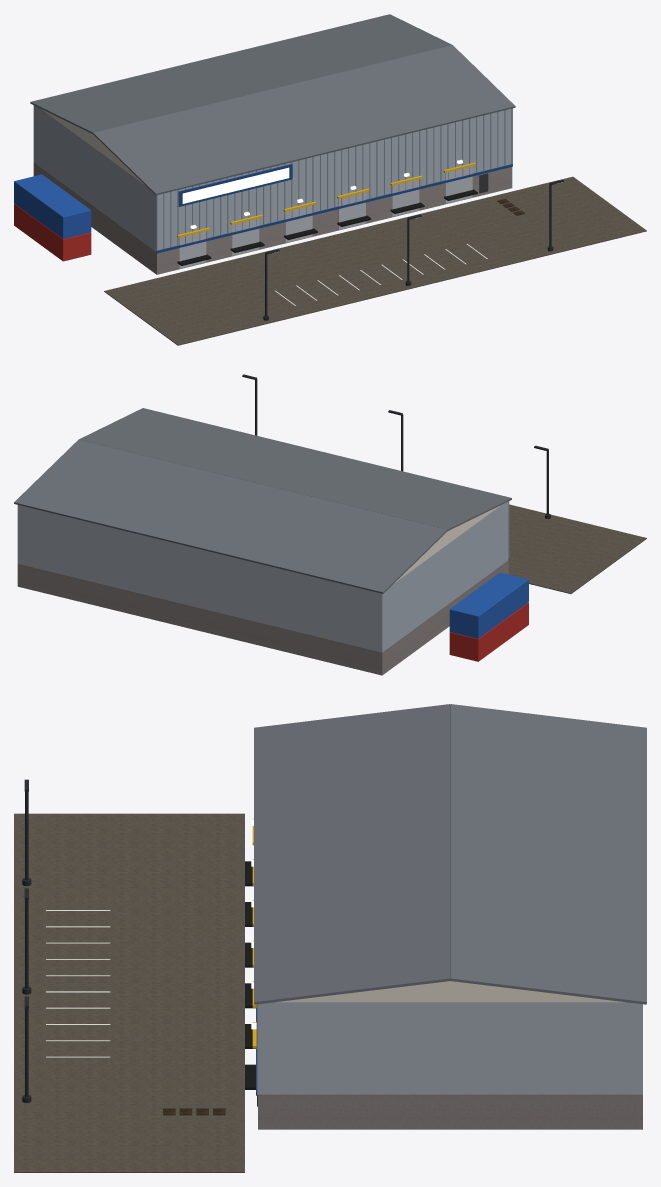
The model's file is OT_Warehouse_A.glb.
The picture shows the model from 3 angles, top to bottom: view 1: azimuth 30°, elevation 25°; view 2: azimuth 150°, elevation 25°; view 3: azimuth 270°, elevation 25°; orthographic projection. The views are drawn at different scales.
Visible parts, largest first — view 1: OT_Warehouse_A_RoofGrey__6f757c, OT_Warehouse_A_Pavement, OT_Warehouse_A_WhMetal__aab4bf, OT_Warehouse_A_Block, OT_Warehouse_A_Rib__8e98a3, OT_Warehouse_A_DockDoor__b8bcc2, OT_Warehouse_A_Container2__2a5fb0, OT_Warehouse_A_WhBlue__1f4e8c, OT_Warehouse_A_Container__b8322a, OT_Warehouse_A_SignWhiteGlow__f4f8ff, OT_Warehouse_A_Bumper__1a1a1a, OT_Warehouse_A_PoleDark__2a2c30 (+2 smaller); view 2: OT_Warehouse_A_RoofGrey__6f757c, OT_Warehouse_A_WhMetal__aab4bf, OT_Warehouse_A_Block, OT_Warehouse_A_Pavement, OT_Warehouse_A_Container2__2a5fb0, OT_Warehouse_A_Container__b8322a, OT_Warehouse_A_Gable__e8e2d4, OT_Warehouse_A_PoleDark__2a2c30; view 3: OT_Warehouse_A_RoofGrey__6f757c, OT_Warehouse_A_Pavement, OT_Warehouse_A_WhMetal__aab4bf, OT_Warehouse_A_Block, OT_Warehouse_A_Gable__e8e2d4, OT_Warehouse_A_PoleDark__2a2c30, OT_Warehouse_A_Bumper__1a1a1a, OT_Warehouse_A_PaintWhite__f0f0ee.
Part boxes in pixels (box(x1,y1,x2,y2)): OT_Warehouse_A_RoofGrey__6f757c: box(30, 14, 515, 195); OT_Warehouse_A_Pavement: box(104, 176, 646, 345); OT_Warehouse_A_WhMetal__aab4bf: box(33, 105, 511, 251); OT_Warehouse_A_Block: box(33, 163, 512, 274); OT_Warehouse_A_Rib__8e98a3: box(156, 108, 512, 252); OT_Warehouse_A_DockDoor__b8bcc2: box(179, 166, 472, 268); OT_Warehouse_A_Container2__2a5fb0: box(14, 174, 91, 239); OT_Warehouse_A_WhBlue__1f4e8c: box(156, 164, 512, 253); OT_Warehouse_A_Container__b8322a: box(14, 203, 91, 261); OT_Warehouse_A_SignWhiteGlow__f4f8ff: box(182, 167, 289, 203); OT_Warehouse_A_Bumper__1a1a1a: box(177, 189, 477, 265); OT_Warehouse_A_PoleDark__2a2c30: box(263, 179, 563, 320); OT_Warehouse_A_RoofGrey__6f757c: box(14, 408, 511, 593); OT_Warehouse_A_WhMetal__aab4bf: box(17, 501, 508, 652); OT_Warehouse_A_Block: box(17, 560, 508, 675); OT_Warehouse_A_Pavement: box(508, 504, 646, 593); OT_Warehouse_A_Container2__2a5fb0: box(449, 572, 528, 638); OT_Warehouse_A_Container__b8322a: box(449, 602, 528, 661); OT_Warehouse_A_Gable__e8e2d4: box(394, 505, 500, 583); OT_Warehouse_A_PoleDark__2a2c30: box(242, 374, 550, 518); OT_Warehouse_A_RoofGrey__6f757c: box(254, 704, 646, 1004); OT_Warehouse_A_Pavement: box(14, 813, 244, 1172); OT_Warehouse_A_WhMetal__aab4bf: box(258, 1002, 642, 1094); OT_Warehouse_A_Block: box(258, 1094, 642, 1129); OT_Warehouse_A_Gable__e8e2d4: box(276, 981, 624, 1002); OT_Warehouse_A_PoleDark__2a2c30: box(22, 779, 31, 1103); OT_Warehouse_A_Bumper__1a1a1a: box(245, 861, 255, 1089); OT_Warehouse_A_PaintWhite__f0f0ee: box(46, 910, 110, 1057).
Bounding box in the file's own units: 66 × 13.13 × 49.31.
Materials: 19 (3 with a texture image).
